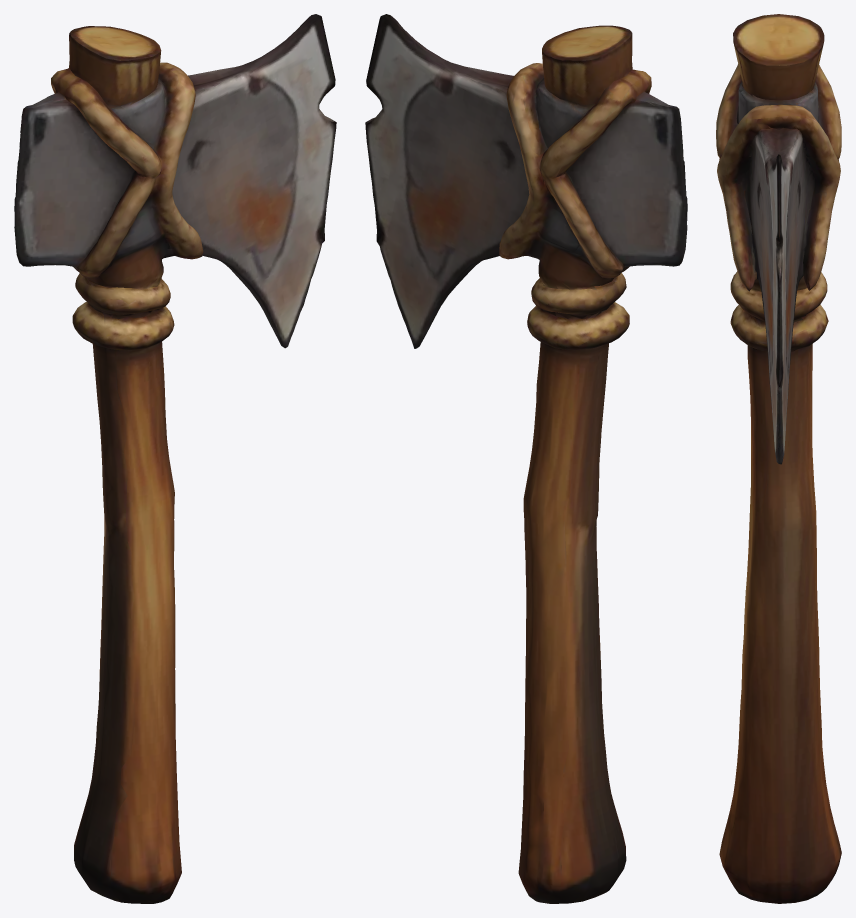
Rendered from woodcutter_hatchet.glb.
3 renders of one model, left to right at view 1: azimuth 30°, elevation 25°; view 2: azimuth 150°, elevation 25°; view 3: azimuth 270°, elevation 25°, orthographic.
Visible parts, largest first — view 1: world; view 2: world; view 3: world.
Part boxes in pixels (x1,y1,x2,y2): world: (14, 14, 336, 903); world: (365, 14, 687, 903); world: (716, 14, 841, 903).
Bounding box in the file's own units: 0.2737 × 0.7 × 0.0938.
Materials: 1 (1 with a texture image).
